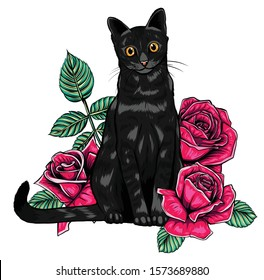cat: (10, 6, 186, 228)
flower: (154, 163, 235, 241), (33, 135, 106, 208), (178, 94, 243, 170)
